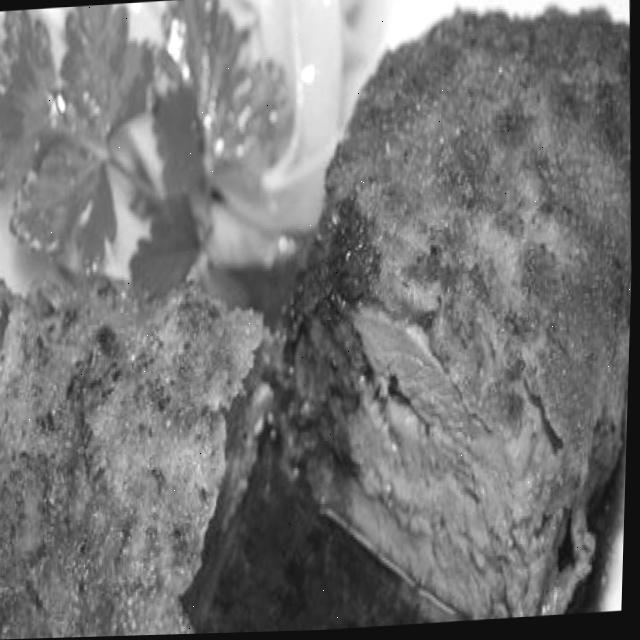牛肉菜式: (259, 0, 640, 634)
